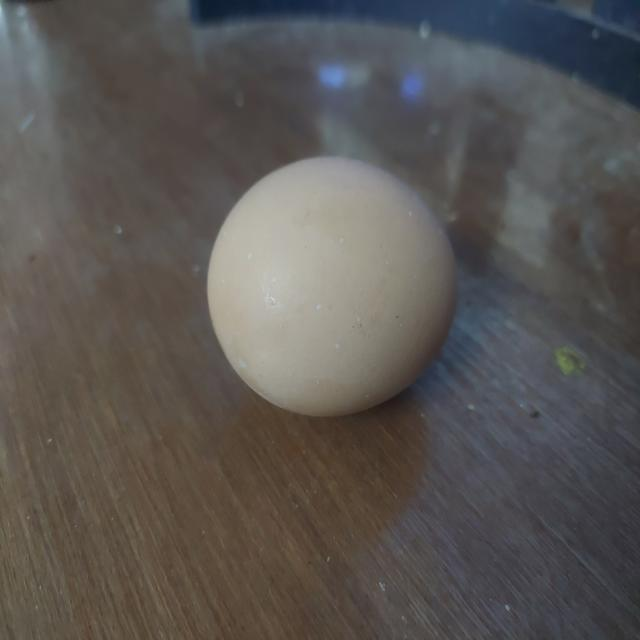Egg: (200, 147, 469, 424)
